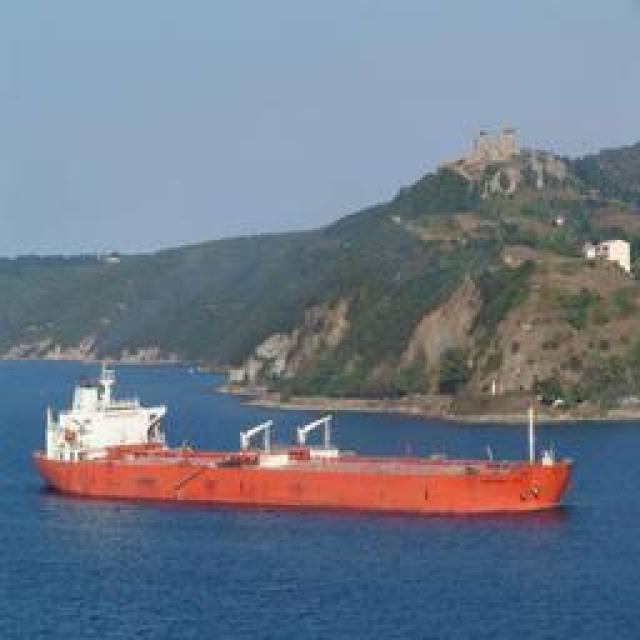ship2: (33, 352, 574, 522)
